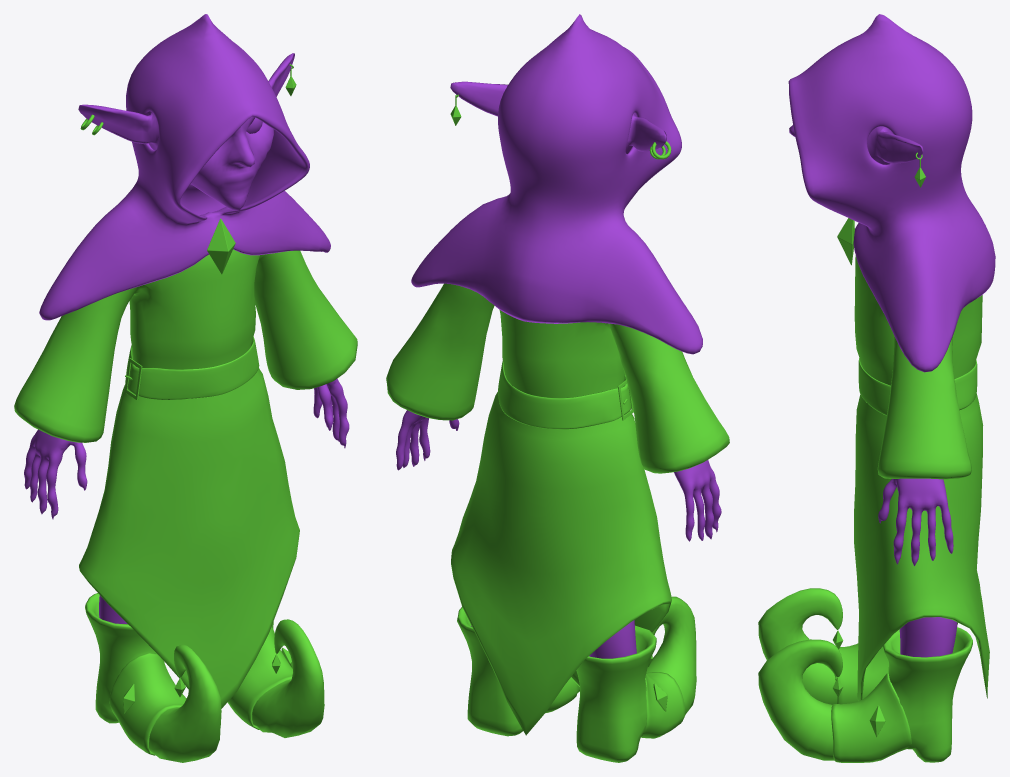
File: SM_Wizard_02.fbx
3 views of the same model, side by side, from view 1: azimuth 30°, elevation 25°; view 2: azimuth 150°, elevation 25°; view 3: azimuth 270°, elevation 25° (orthographic).
Visible parts, largest first — view 1: cloak_low, hood_low, right_shoe_low, body_low, left_shoe_low, body2_low, right_shoe_band_low, belt_low, left_shoe_band_low, gem_low; view 2: cloak_low, hood_low, right_shoe_low, body2_low, belt_low, left_shoe_low, body_low, right_shoe_band_low; view 3: hood_low, cloak_low, left_shoe_low, body2_low, left_shoe_band_low, right_shoe_low, right_shoe_band_low, belt_low, body_low, gem_low.
Boxes of the visible parts, x1,y1,x2,y2 form: cloak_low: (14, 249, 357, 708); hood_low: (39, 14, 330, 320); right_shoe_low: (85, 593, 221, 762); body_low: (78, 53, 294, 215); left_shoe_low: (252, 619, 324, 737); body2_low: (24, 378, 349, 623); right_shoe_band_low: (109, 653, 186, 755); belt_low: (125, 336, 259, 399); left_shoe_band_low: (227, 627, 292, 729); gem_low: (207, 218, 235, 274); cloak_low: (386, 283, 729, 735); hood_low: (411, 14, 702, 354); right_shoe_low: (576, 596, 696, 762); body2_low: (396, 410, 721, 658); belt_low: (498, 361, 631, 429); left_shoe_low: (457, 607, 579, 736); body_low: (450, 81, 666, 153); right_shoe_band_low: (641, 672, 685, 738); hood_low: (788, 14, 995, 372); cloak_low: (854, 255, 989, 701); left_shoe_low: (758, 627, 972, 762); body2_low: (878, 478, 957, 657); left_shoe_band_low: (831, 672, 911, 762); right_shoe_low: (758, 588, 957, 704); right_shoe_band_low: (834, 643, 888, 704); belt_low: (858, 358, 977, 415); body_low: (789, 125, 923, 164); gem_low: (837, 218, 854, 265).
Bounding box in the file's own units: 23.58 × 48.54 × 14.63.
